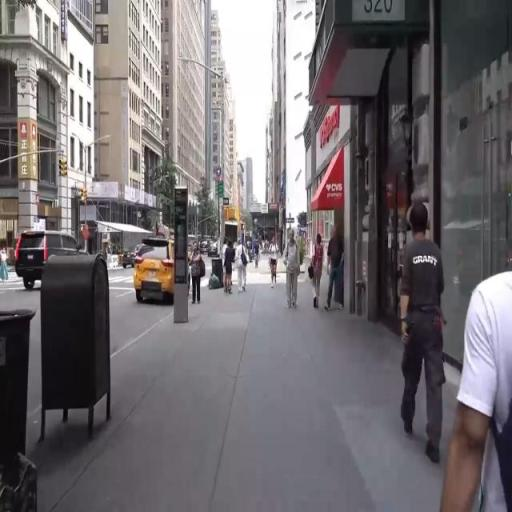person: (433, 187, 512, 512), (393, 206, 451, 460), (328, 228, 349, 320), (283, 227, 301, 313), (310, 235, 325, 309), (191, 244, 207, 312), (237, 239, 248, 299), (225, 244, 234, 299), (271, 235, 279, 293), (2, 245, 9, 283), (255, 238, 262, 268)
